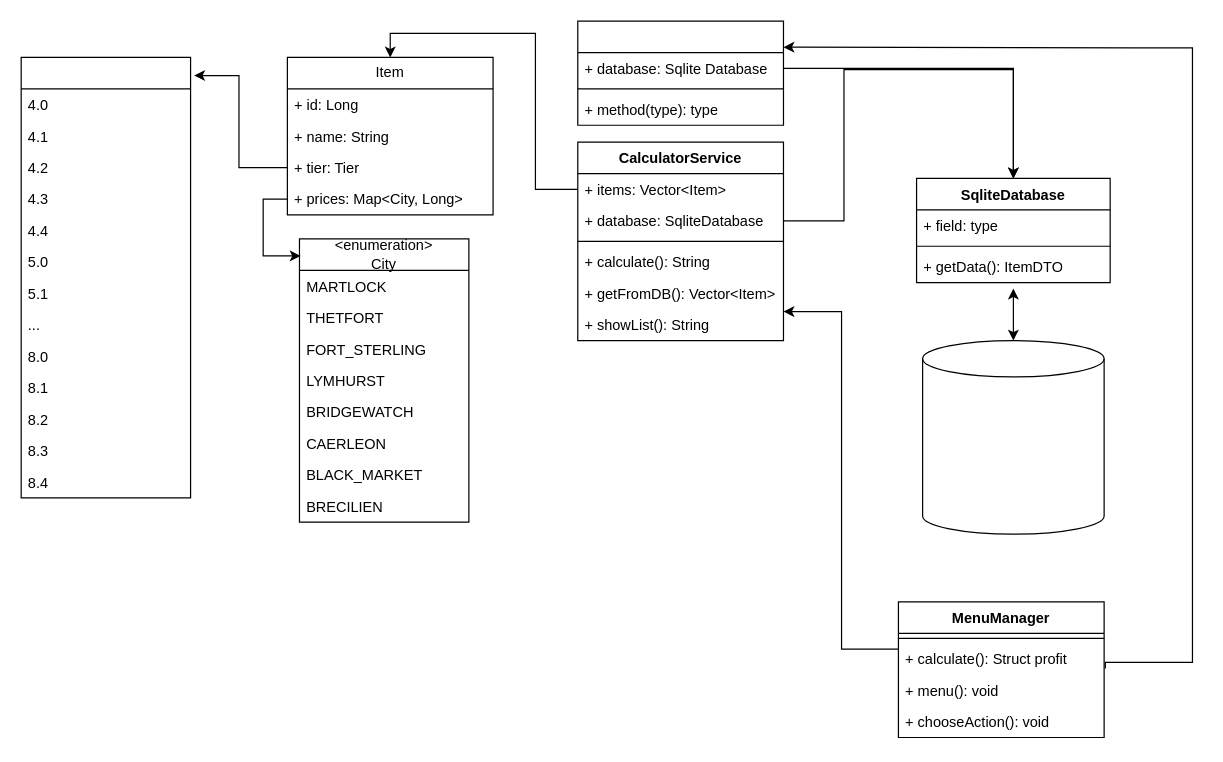
The diagram is 1223 pixels wide and 762 high, and some of its shapes have lost their labels. The box of each missing label's shape, as (x1, y1, x2, y2) in pixels:
<enumeration > Tier: (20, 56, 191, 498)
ApiGateService: (577, 20, 783, 125)
SQLITE: (921, 339, 1104, 534)
